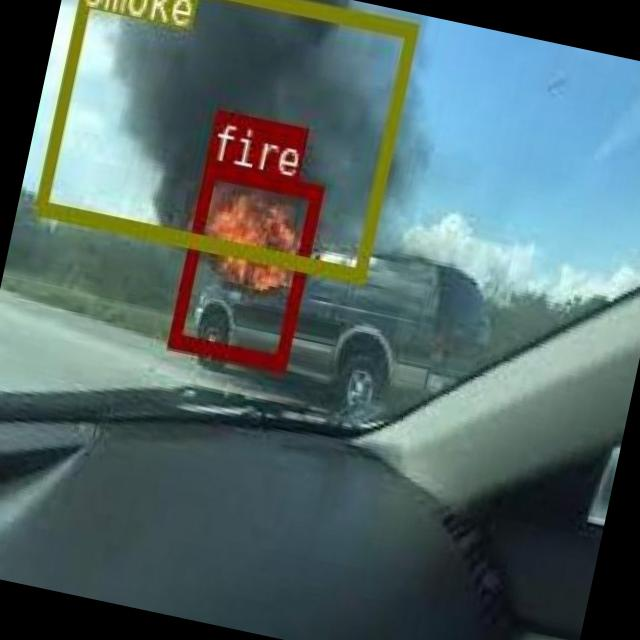fire: (167, 161, 320, 367)
smoke: (31, 0, 416, 278)
